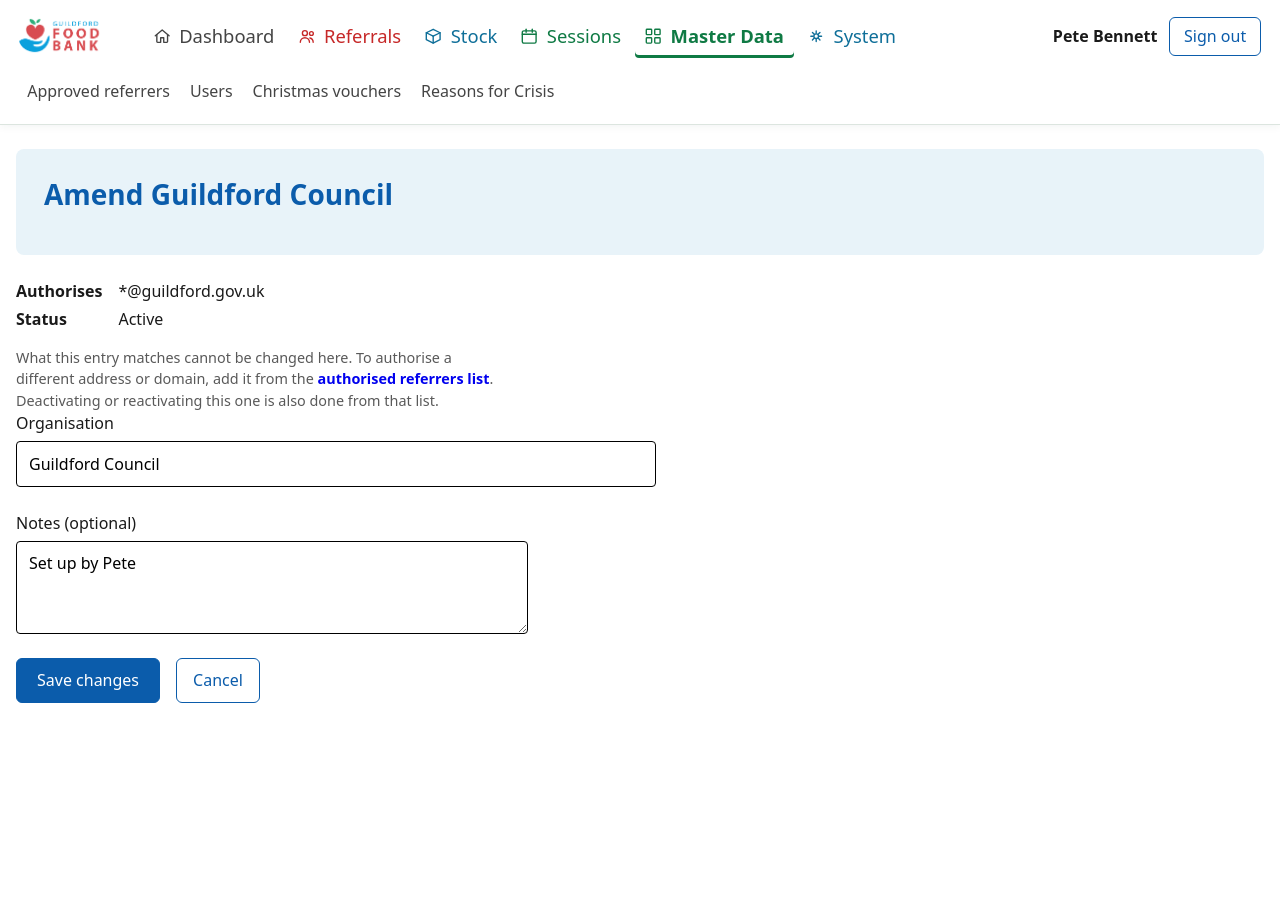
it: amending an authorised referrer › saves the organisation and notes without matchType, matchValue or isActive
Step 1. Replace the text in the field labelled "Organisation" with "Guildford Borough Council" → coordinates (336, 464), box [16,441,656,487]
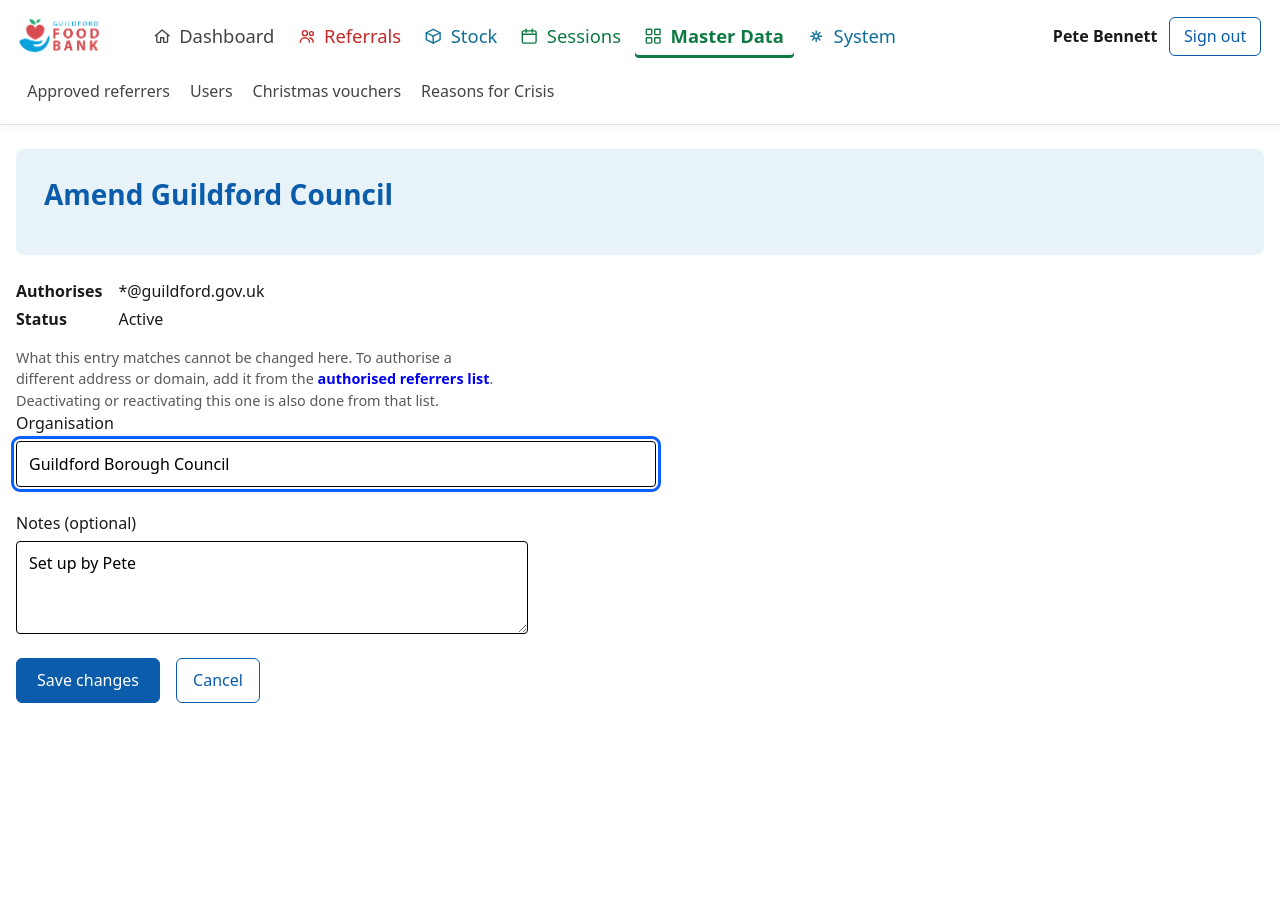
Step 2. Click the button "Save changes" → coordinates (88, 680), box [16,658,160,703]
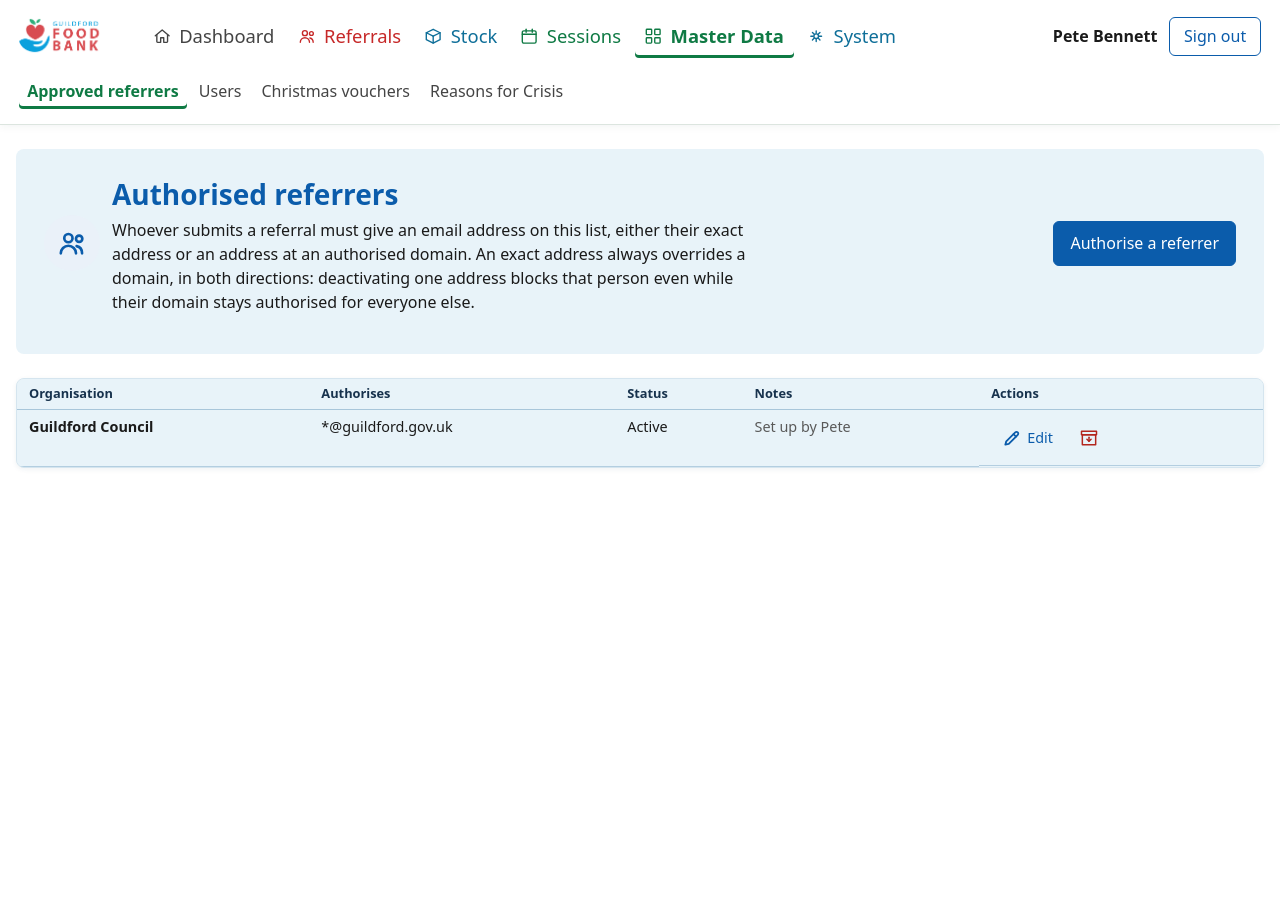
Expected: the heading "Authorised referrers" is shown, [112,175,398,213]
